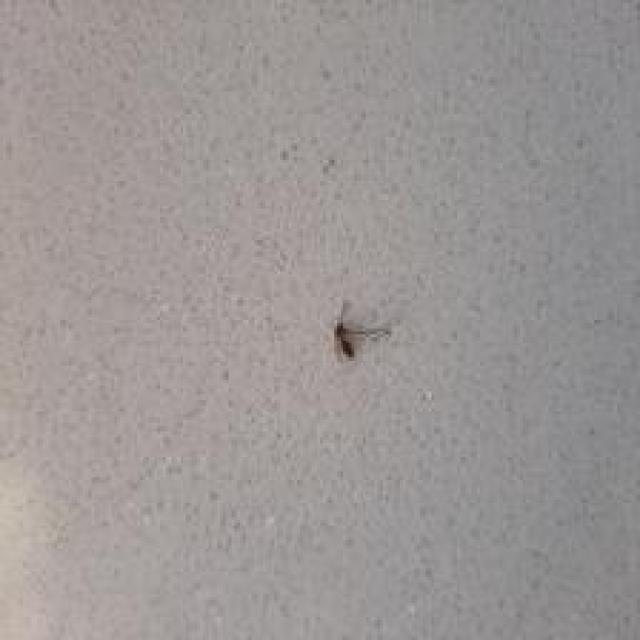Culex: (332, 298, 392, 362)
